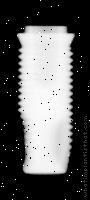Nobel Biocare: (17, 26, 75, 176)
